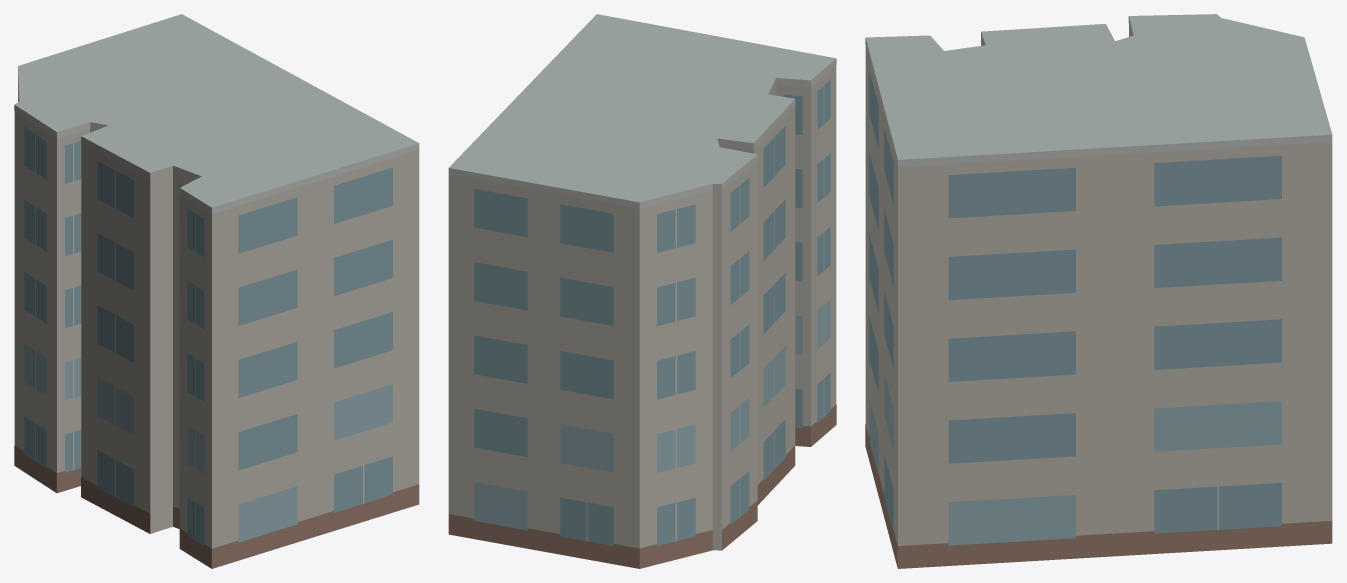
The model's file is survey-upis-32838403.glb.
3 views of the same model, side by side, from view 1: azimuth 30°, elevation 25°; view 2: azimuth 150°, elevation 25°; view 3: azimuth 270°, elevation 25° (orthographic). The views are drawn at different scales.
Parts seen in each view (by area): view 1: survey-upis-32838403.tmp; view 2: survey-upis-32838403.tmp; view 3: survey-upis-32838403.tmp.
Boxes of the visible parts, x1,y1,x2,y2 form: survey-upis-32838403.tmp: (14,14,419,568); survey-upis-32838403.tmp: (448,14,836,568); survey-upis-32838403.tmp: (865,14,1332,568).
Size of the model in its own units: 10.49 by 13.7 by 14.18.
